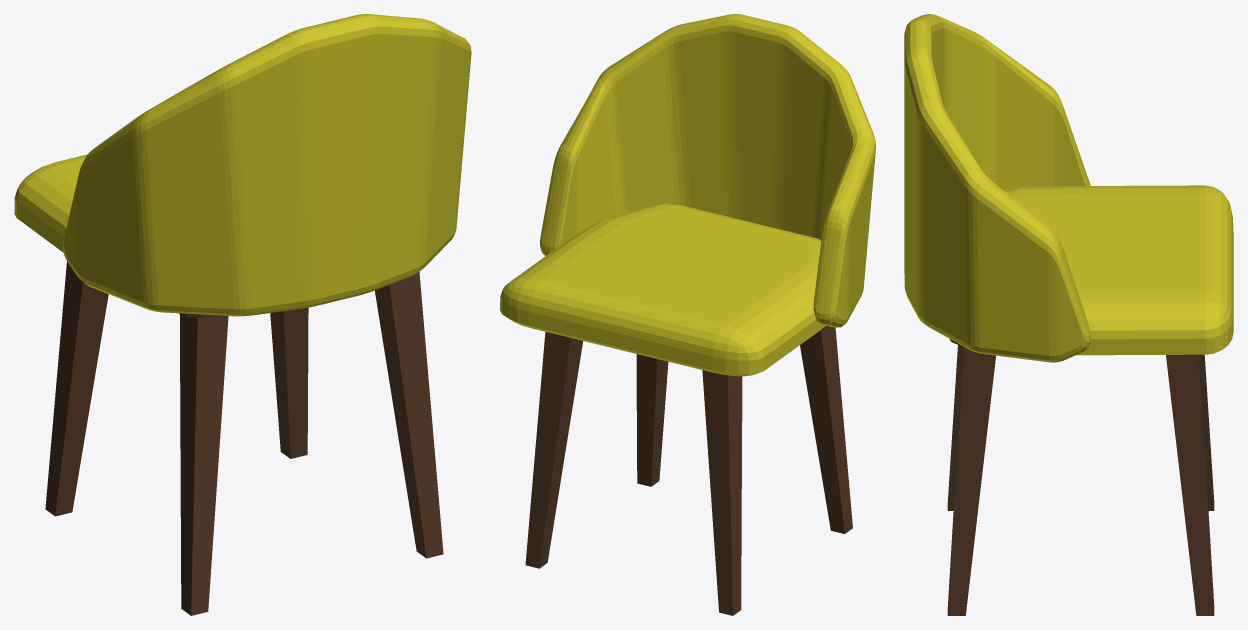
The model's file is chaise.fbx.
3 renders of one model, left to right at view 1: azimuth 30°, elevation 25°; view 2: azimuth 150°, elevation 25°; view 3: azimuth 270°, elevation 25°, orthographic. The views are drawn at different scales.
Visible parts, largest first — view 1: chaise; view 2: chaise; view 3: chaise.
Part boxes in pixels (<box>): chaise: <box>14,14,471,615</box>; chaise: <box>500,14,875,615</box>; chaise: <box>904,14,1233,615</box>.
Size of the model in its own units: 52.77 by 80.41 by 45.7.
